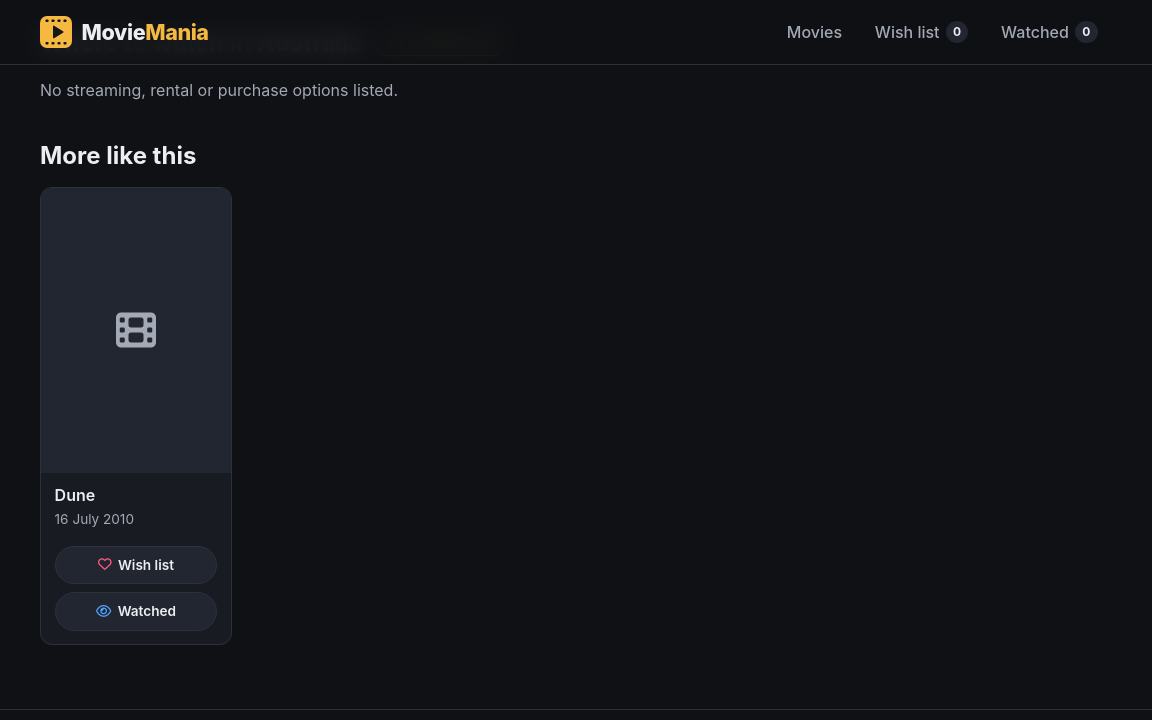
Scenario: Movie detail page › clears an earlier error when another movie loads
Later steps or results of the test are not shown.
(page scrolled)
Click the link "Dune 16 July 2010": coordinates (136, 361) [41, 188, 231, 534]
(page scrolled)
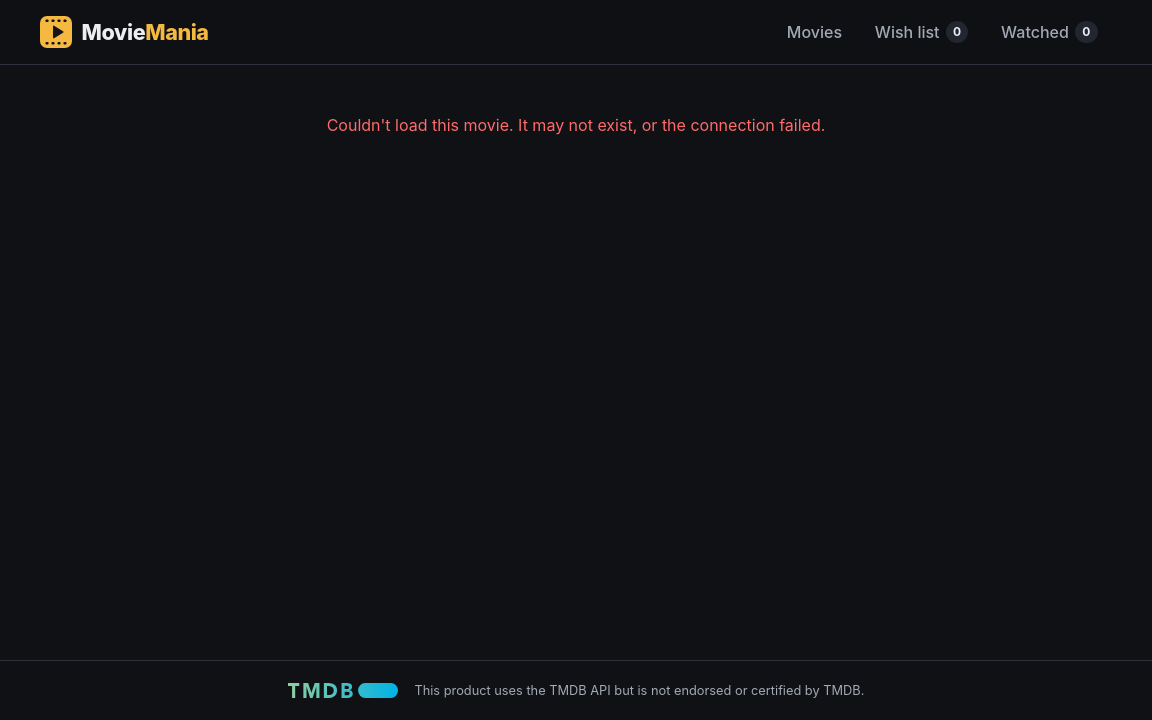
Result: the message shows "Couldn't load this movie." at [327, 115, 825, 135]
